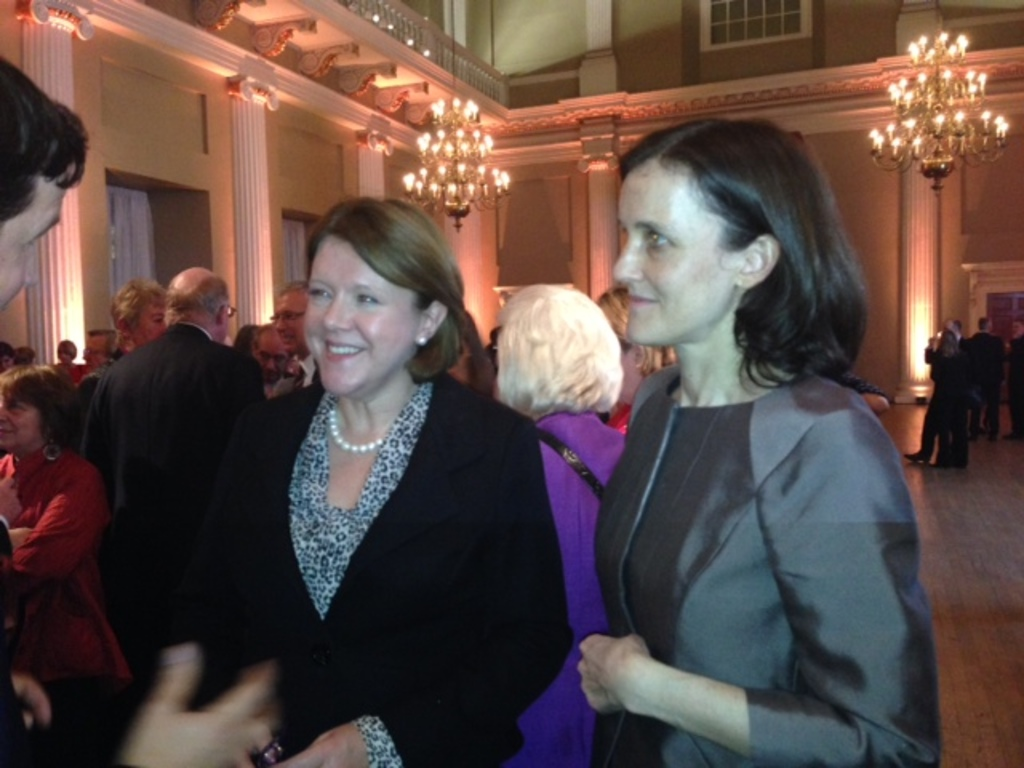Human-face: (611, 157, 736, 344), (306, 230, 421, 392), (0, 178, 70, 307), (274, 291, 304, 350)
